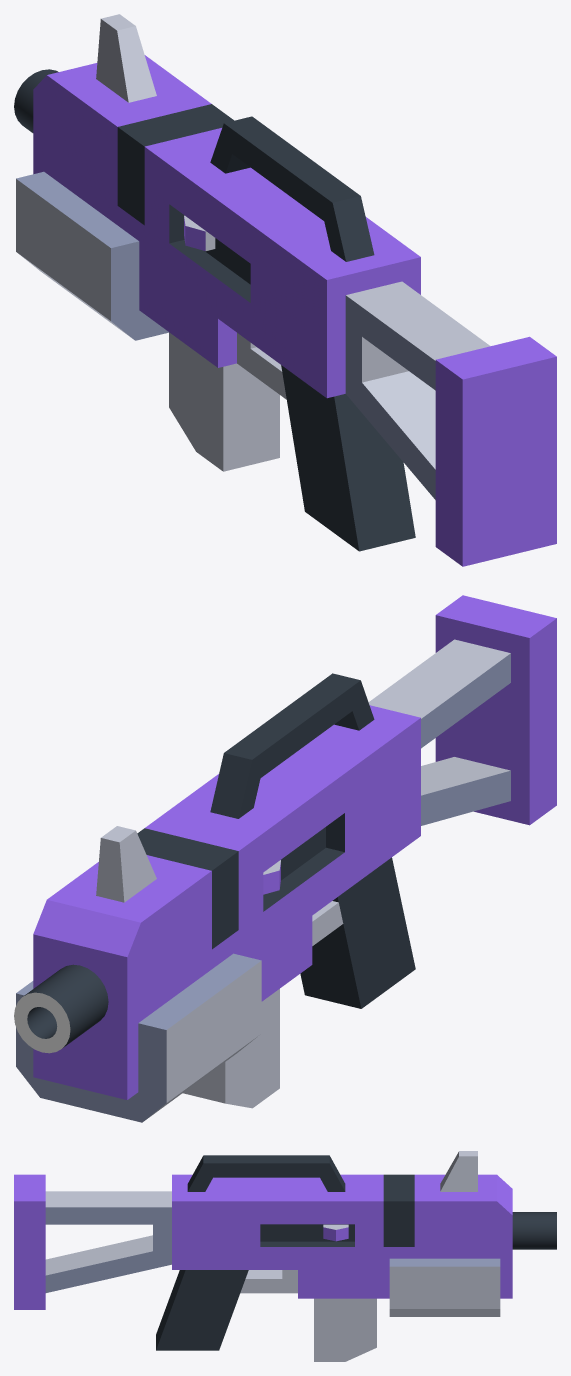
File: blasterD.dae
3 views of the same model, one above another, from view 1: azimuth 30°, elevation 25°; view 2: azimuth 150°, elevation 25°; view 3: azimuth 270°, elevation 25° (orthographic). The views are drawn at different scales.
Parts seen in each view (by area): view 1: blasterD; view 2: blasterD; view 3: blasterD.
Boxes of the visible parts, box(x1,y1,x2,y2) form: blasterD: box(14, 14, 556, 566); blasterD: box(14, 595, 556, 1122); blasterD: box(14, 1151, 556, 1361).
Size of the model in its own units: 0.16 by 0.35 by 0.86.
